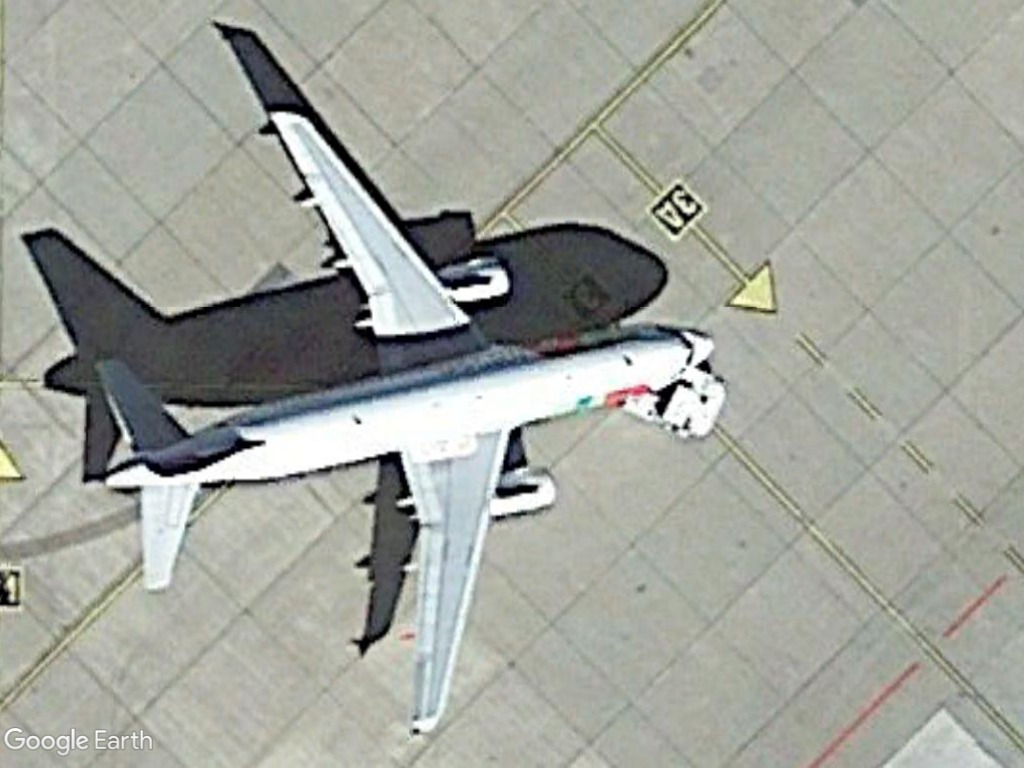airliner: (80, 109, 722, 742)
